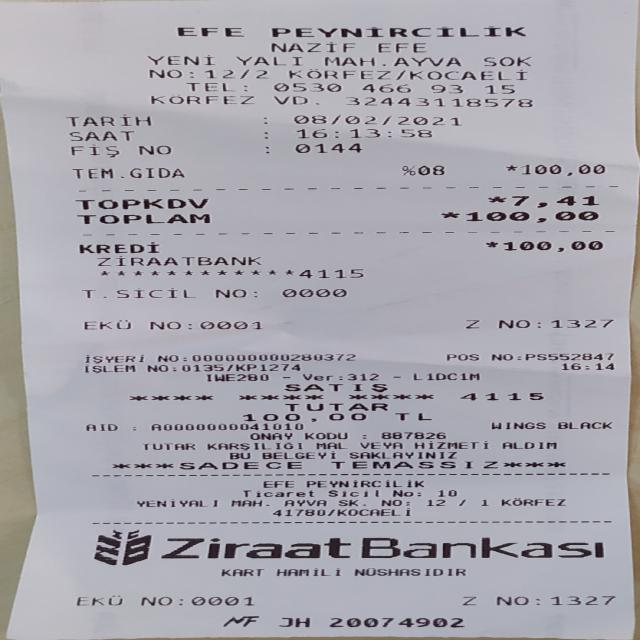text: (359, 536, 602, 560), (161, 536, 351, 561), (270, 23, 523, 39), (346, 94, 531, 108), (292, 114, 461, 126), (96, 255, 258, 267), (72, 196, 206, 210), (74, 212, 208, 226), (328, 615, 463, 628), (324, 54, 459, 66), (465, 210, 598, 222), (328, 460, 496, 469), (410, 68, 525, 81), (70, 166, 182, 179), (151, 92, 251, 106), (294, 128, 431, 138), (180, 460, 302, 470), (511, 194, 598, 208), (288, 68, 389, 80), (150, 422, 300, 430), (190, 354, 353, 361), (241, 412, 365, 421), (502, 240, 603, 251), (64, 114, 148, 127), (271, 40, 354, 53), (521, 163, 603, 176), (174, 23, 240, 39), (284, 402, 386, 412), (76, 241, 159, 253), (293, 140, 361, 154), (458, 390, 542, 401), (283, 383, 384, 392), (354, 568, 465, 576), (346, 451, 453, 459), (200, 318, 261, 332), (306, 480, 423, 487), (522, 352, 612, 361), (135, 498, 216, 508), (146, 54, 213, 66), (114, 288, 194, 298), (234, 54, 300, 66), (274, 81, 338, 93), (69, 130, 133, 142), (186, 595, 255, 606), (550, 594, 613, 606), (298, 267, 365, 278), (204, 68, 264, 80), (276, 287, 348, 297), (69, 144, 119, 158), (207, 442, 299, 449), (499, 496, 563, 506), (185, 80, 233, 93), (260, 451, 335, 459), (378, 40, 423, 53), (414, 441, 486, 449), (336, 508, 408, 516), (483, 54, 530, 66), (362, 82, 409, 94), (242, 489, 312, 497), (83, 318, 129, 330), (274, 568, 342, 576), (412, 372, 478, 380), (379, 431, 444, 439), (76, 594, 119, 606), (550, 319, 612, 327), (486, 421, 548, 429), (136, 142, 171, 156), (82, 354, 143, 362), (205, 373, 266, 381), (232, 364, 299, 371), (556, 421, 611, 429), (560, 362, 612, 370), (140, 442, 192, 450), (272, 508, 324, 516), (327, 489, 378, 497), (83, 364, 133, 372), (273, 94, 306, 106), (277, 616, 310, 628), (150, 318, 180, 331), (500, 441, 555, 448), (213, 286, 245, 298), (139, 594, 171, 606), (283, 498, 324, 507), (150, 68, 180, 80), (430, 82, 460, 94), (494, 595, 526, 606), (485, 82, 514, 94), (303, 431, 346, 439), (416, 163, 442, 176), (358, 441, 400, 449), (220, 568, 262, 576), (394, 412, 431, 421), (179, 364, 220, 372), (248, 432, 290, 439), (445, 352, 477, 361), (228, 498, 256, 508), (498, 319, 529, 328), (83, 422, 116, 430), (346, 372, 376, 380), (488, 194, 505, 208), (302, 372, 331, 380), (439, 210, 458, 222), (315, 441, 343, 449), (262, 480, 292, 487), (337, 498, 357, 508), (379, 497, 398, 507), (424, 497, 443, 507), (80, 288, 99, 298), (490, 352, 510, 361), (156, 354, 176, 362), (145, 364, 165, 372), (228, 451, 248, 459), (392, 489, 411, 497), (402, 163, 413, 176), (461, 595, 474, 606), (505, 163, 515, 176), (464, 319, 478, 328), (437, 489, 454, 496), (482, 240, 498, 247), (396, 68, 403, 80), (262, 142, 268, 155), (479, 497, 486, 507), (170, 364, 178, 372), (225, 364, 233, 372), (281, 373, 289, 381), (391, 372, 399, 380), (327, 508, 335, 516), (263, 128, 268, 140), (263, 141, 267, 156), (262, 498, 268, 508), (402, 497, 408, 507), (261, 114, 266, 125), (188, 67, 192, 79), (180, 354, 186, 362), (178, 594, 182, 606), (535, 594, 539, 606), (252, 286, 255, 298), (337, 372, 341, 380), (130, 422, 134, 430), (536, 319, 539, 328), (515, 352, 518, 361), (188, 318, 190, 331), (361, 431, 364, 439), (361, 498, 363, 508), (416, 489, 418, 497), (316, 94, 317, 106), (244, 81, 245, 92)
